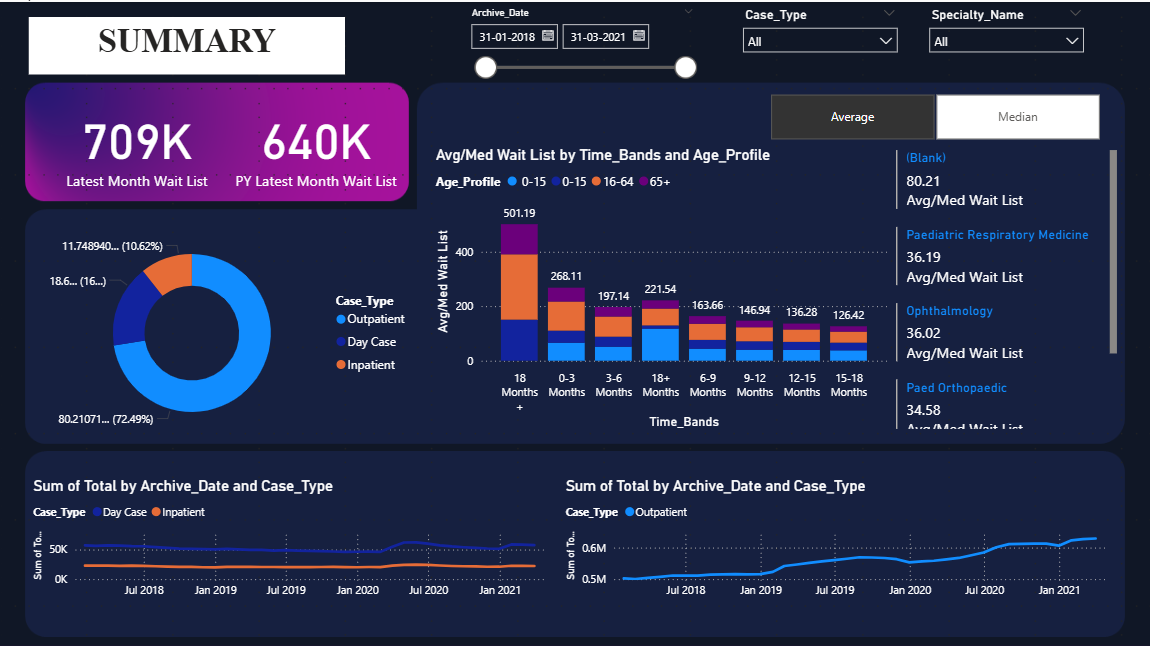

What the dashboard file says about the page in this screenshot:
{"tool":"powerbi","page":{"name":"Summary","canvas":[1280,720],"ordinal":0},"visuals":[{"type":"card","fields":{"Values":["All_Data.Latest Month Wait List"]},"box":[48,96,208,128],"z":0},{"type":"card","fields":{"Values":["All_Data.PY Latest Month Wait List"]},"box":[256,96,192,128],"z":1000},{"type":"slicer","fields":{"Values":["Calculation Method.Calc Method"]},"box":[832,96,416,64],"z":2000},{"type":"donutChart","fields":{"Category":["All_Data.Case_Type"],"Y":["All_Data.Avg/Med Wait List"]},"box":[48,240,416,256],"z":3000},{"type":"columnChart","fields":{"Y":["All_Data.Avg/Med Wait List"],"Category":["All_Data.Time_Bands"],"Series":["All_Data.Age_Profile"]},"box":[480,160,512,320],"z":4000},{"type":"multiRowCard","fields":{"Values":["All_Data.Avg/Med Wait List","All_Data.Specialty_Name"]},"box":[992,160,256,320],"z":5000},{"type":"lineChart","fields":{"Category":["All_Data.Archive_Date"],"Y":["Sum(All_Data.Total)"],"Series":["All_Data.Case_Type"]},"box":[32,528,592,144],"z":6000},{"type":"lineChart","fields":{"Category":["All_Data.Archive_Date"],"Y":["Sum(All_Data.Total)"],"Series":["All_Data.Case_Type"]},"box":[624,528,624,144],"z":7000},{"type":"slicer","fields":{"Values":["All_Data.Archive_Date"]},"box":[512,0,272,96],"z":8000},{"type":"slicer","fields":{"Values":["All_Data.Case_Type"]},"box":[816,0,192,80],"z":9000},{"type":"slicer","fields":{"Values":["All_Data.Specialty_Name"]},"box":[1024,0,192,80],"z":10000},{"type":"textbox","box":[32,16,352,64],"z":11000}]}

Visuals, with their boxes in screenshot pixels (x1, y1, x2, y2), scaled from the page's 1280x720 canvas onto the 1150x646 screenshot:
card - All_Data.Latest Month Wait List: (left=43, top=86, right=230, bottom=201)
card - All_Data.PY Latest Month Wait List: (left=230, top=86, right=402, bottom=201)
slicer - Calculation Method.Calc Method: (left=748, top=86, right=1121, bottom=144)
donutChart - All_Data.Case_Type x All_Data.Avg/Med Wait List: (left=43, top=215, right=417, bottom=445)
columnChart - All_Data.Avg/Med Wait List x All_Data.Time_Bands: (left=431, top=144, right=891, bottom=431)
multiRowCard - All_Data.Avg/Med Wait List x All_Data.Specialty_Name: (left=891, top=144, right=1121, bottom=431)
lineChart - All_Data.Archive_Date x Sum(All_Data.Total): (left=29, top=474, right=561, bottom=603)
lineChart - All_Data.Archive_Date x Sum(All_Data.Total): (left=561, top=474, right=1121, bottom=603)
slicer - All_Data.Archive_Date: (left=460, top=0, right=704, bottom=86)
slicer - All_Data.Case_Type: (left=733, top=0, right=906, bottom=72)
slicer - All_Data.Specialty_Name: (left=920, top=0, right=1092, bottom=72)
textbox: (left=29, top=14, right=345, bottom=72)
